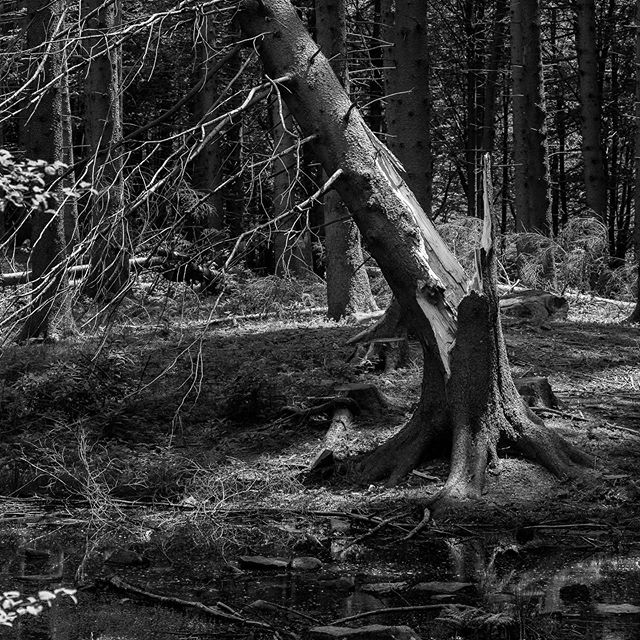tree: (217, 1, 559, 472)
